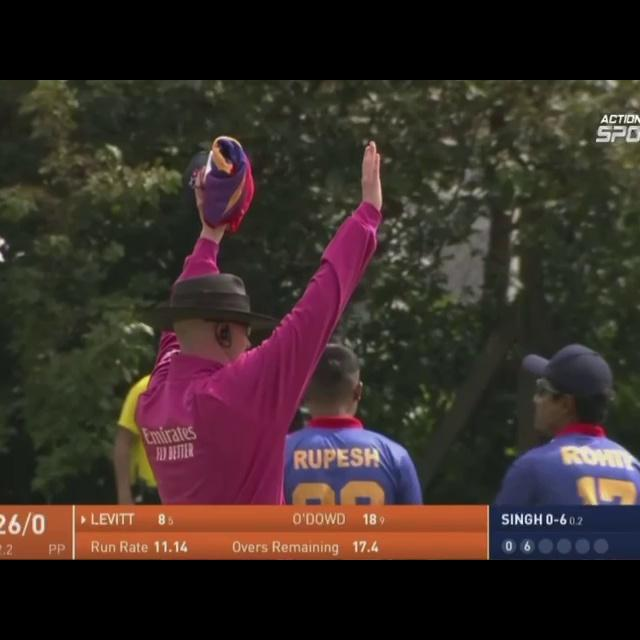umpire: (115, 105, 406, 492)
